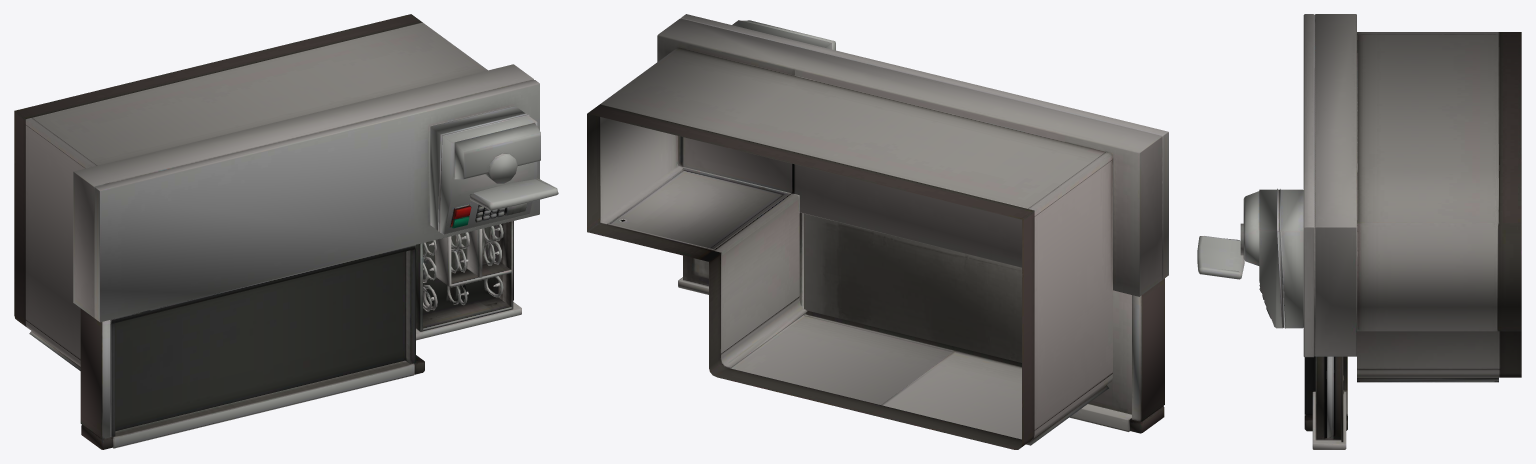
Rendered from caisse.fbx.
3 views of the same model, side by side, from view 1: azimuth 30°, elevation 25°; view 2: azimuth 150°, elevation 25°; view 3: azimuth 270°, elevation 25° (orthographic). The views are drawn at different scales.
Visible parts, largest first — view 1: tripo_node_49fe8fa4-89c8-4e7e-97d1-e74432d72889; view 2: tripo_node_49fe8fa4-89c8-4e7e-97d1-e74432d72889; view 3: tripo_node_49fe8fa4-89c8-4e7e-97d1-e74432d72889.
Part boxes in pixels (<box>): tripo_node_49fe8fa4-89c8-4e7e-97d1-e74432d72889: <box>14,14,558,449</box>; tripo_node_49fe8fa4-89c8-4e7e-97d1-e74432d72889: <box>587,14,1168,449</box>; tripo_node_49fe8fa4-89c8-4e7e-97d1-e74432d72889: <box>1197,14,1521,449</box>.
Bounding box in the file's own units: 0.998 × 0.5684 × 0.6426.
1 material, 1 textured.
